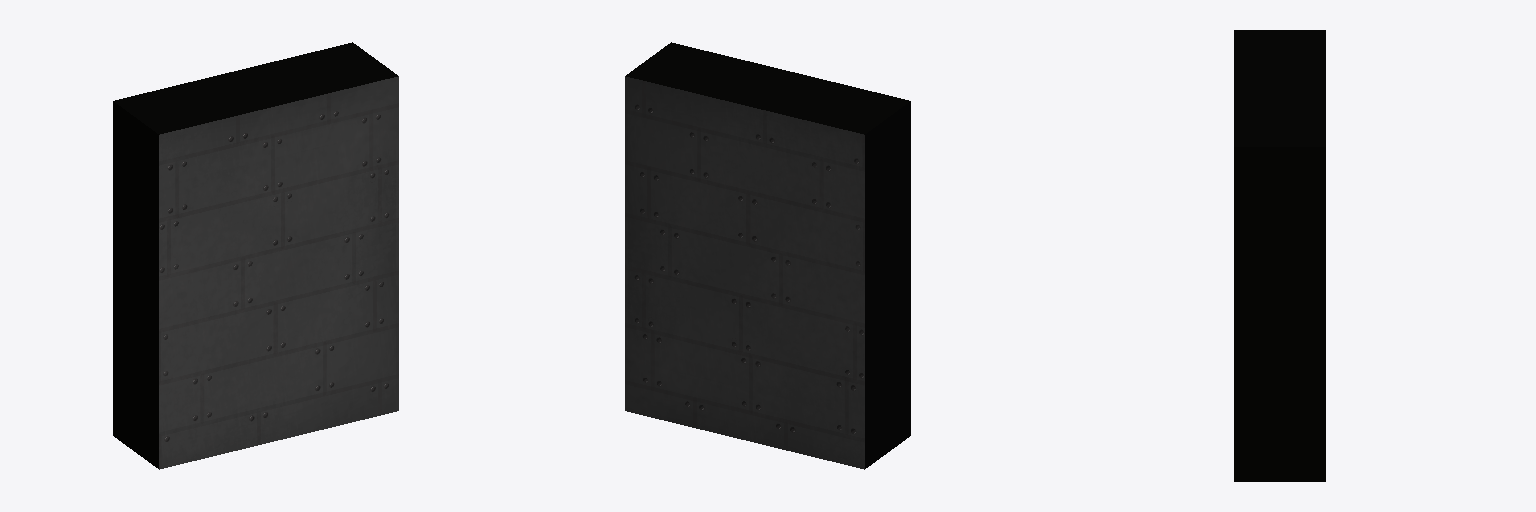
The picture shows the model from 3 angles: view 1: azimuth 30°, elevation 25°; view 2: azimuth 150°, elevation 25°; view 3: azimuth 270°, elevation 25°; orthographic projection.
Visible parts, largest first — view 1: ramp_back_tile_Cube.029; view 2: ramp_back_tile_Cube.029; view 3: ramp_back_tile_Cube.029.
Boxes of the visible parts, x1=… form: ramp_back_tile_Cube.029: x1=113, y1=42, x2=398, y2=469; ramp_back_tile_Cube.029: x1=625, y1=42, x2=910, y2=469; ramp_back_tile_Cube.029: x1=1234, y1=30, x2=1325, y2=481.
Bounding box in the file's own units: 1.2 × 1.6 × 0.4.
Materials: 2 (1 with a texture image).